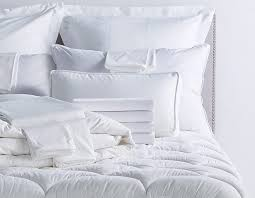bed-matress: (1, 129, 252, 198)
